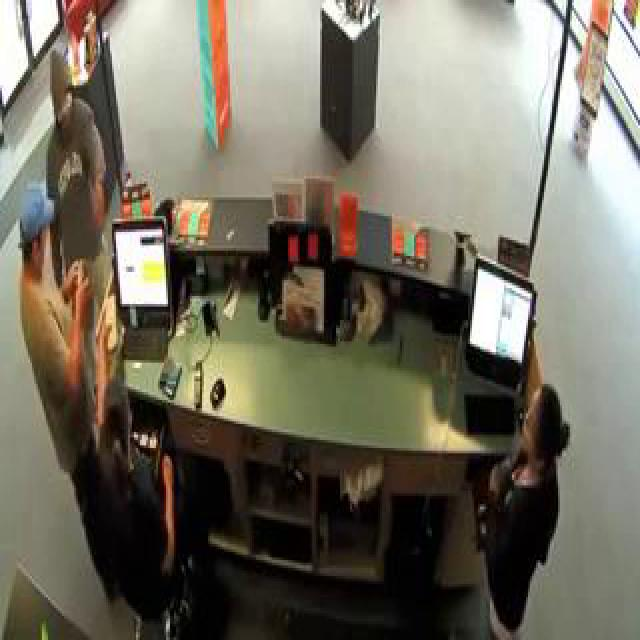robbery: (12, 34, 154, 472)
